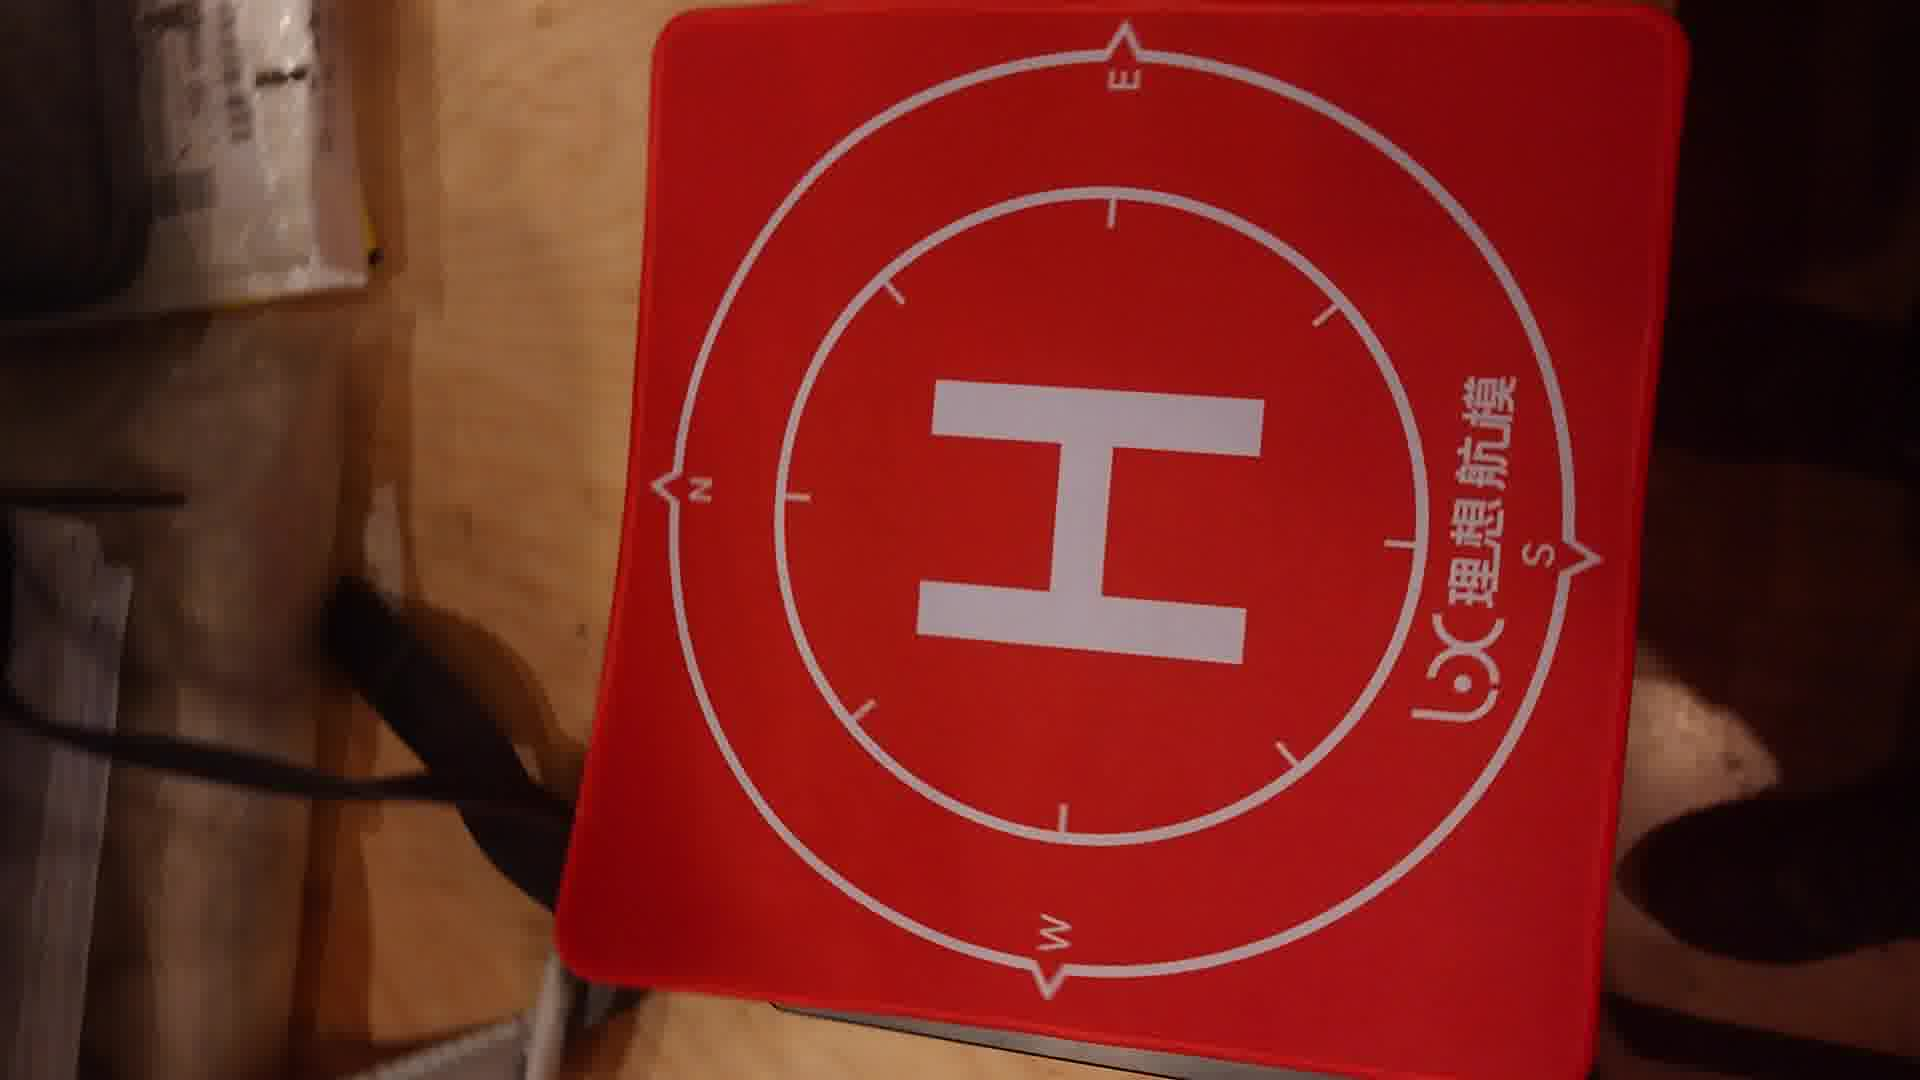H: (913, 376, 1270, 665)
